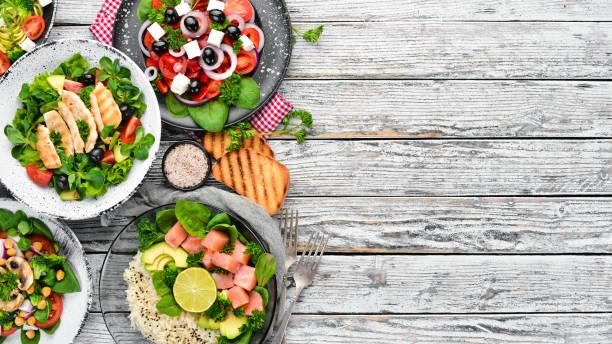Braised Crucian Carp: (1, 37, 161, 218), (99, 195, 284, 343), (113, 1, 290, 133)
